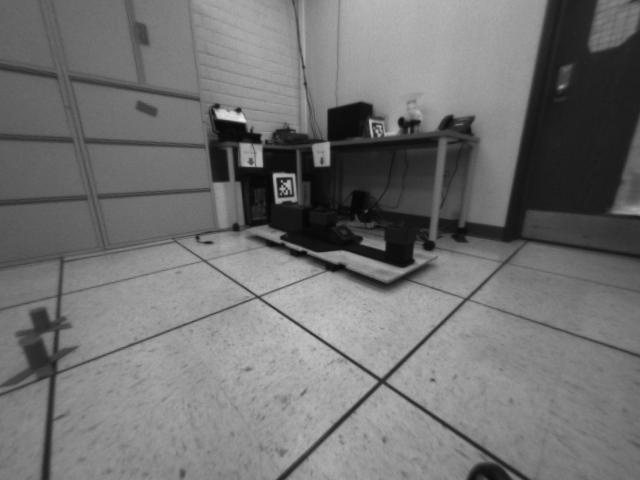X: (2, 336, 77, 386), (13, 306, 74, 337)
